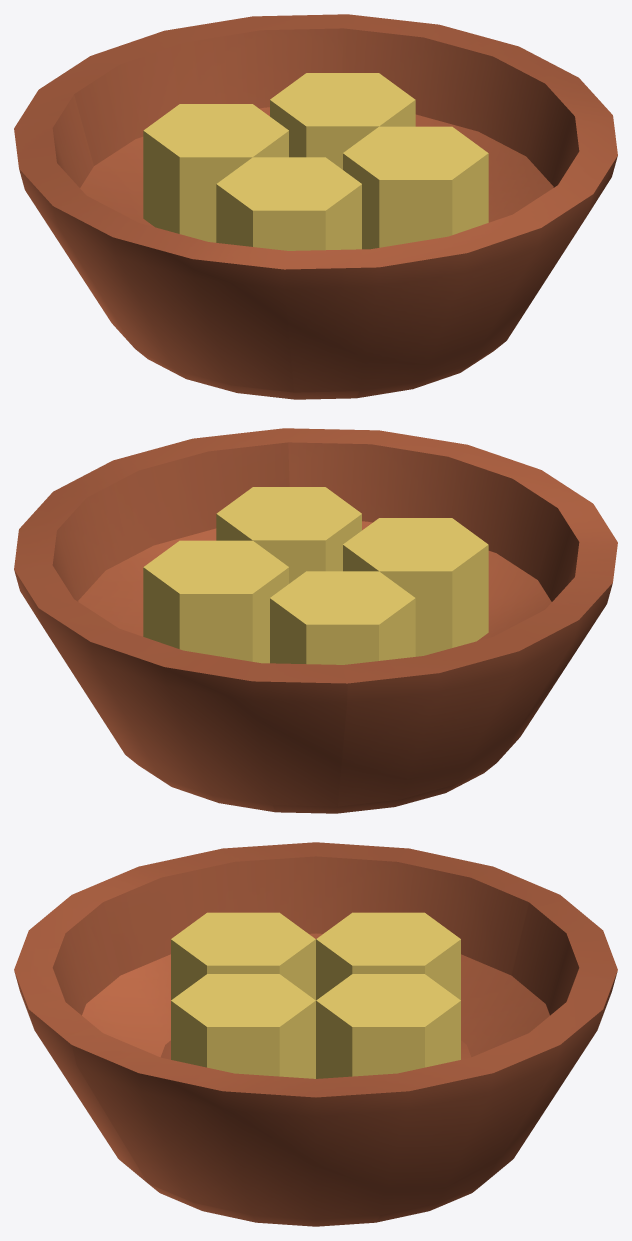
Rendered from cachelos_bowl.glb.
3 renders of one model, top to bottom at view 1: azimuth 30°, elevation 25°; view 2: azimuth 150°, elevation 25°; view 3: azimuth 270°, elevation 25°, orthographic.
Visible parts, largest first — view 1: bowl, Portions4, Portions2, Portions3, Portions1; view 2: bowl, Portions1, Portions3, Portions2, Portions4; view 3: bowl, Portions1, Portions4, Portions2, Portions3.
Boxes of the visible parts, box(x1,y1,x2,y2) form: bowl: box(14, 14, 617, 399); Portions4: box(343, 126, 488, 249); Portions2: box(143, 104, 288, 242); Portions3: box(216, 157, 361, 250); Portions1: box(270, 73, 415, 169); bowl: box(14, 428, 617, 813); Portions1: box(143, 540, 288, 663); Portions3: box(343, 518, 488, 656); Portions2: box(270, 571, 415, 664); Portions4: box(216, 487, 361, 583); bowl: box(14, 842, 617, 1226); Portions1: box(316, 974, 460, 1078); Portions4: box(171, 974, 315, 1078); Portions2: box(316, 912, 460, 1000); Portions3: box(171, 912, 315, 1000).
Size of the model in its own units: 0.5 by 0.162 by 0.5.
2 materials, 1 textured.
